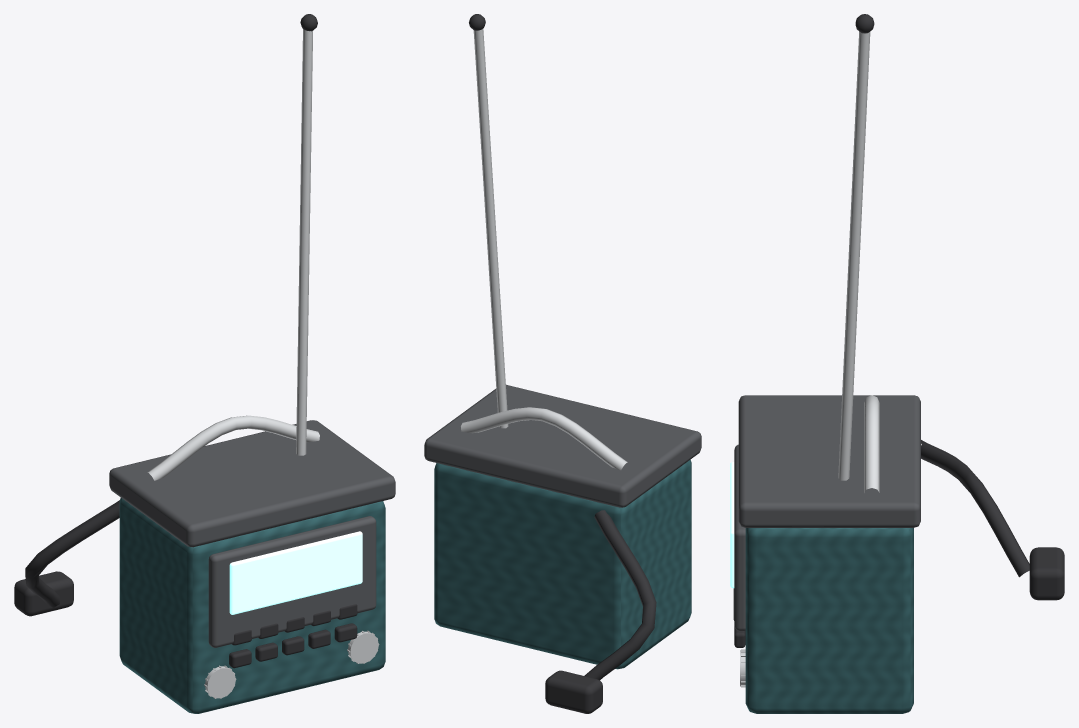
Rendered from arctic-station-fps-kit-field-radio-61404633__28530.glb.
3 views of the same model, side by side, from view 1: azimuth 30°, elevation 25°; view 2: azimuth 150°, elevation 25°; view 3: azimuth 270°, elevation 25° (orthographic). The views are drawn at different scales.
Parts seen in each view (by area): view 1: field-radio; view 2: field-radio; view 3: field-radio.
Part boxes in pixels (x1,y1,x2,y2): field-radio: (14, 14, 395, 713); field-radio: (424, 14, 701, 713); field-radio: (730, 14, 1064, 713).
Bounding box in the file's own units: 0.4826 × 1.08 × 0.477.
Materials: 5 (1 with a texture image).
